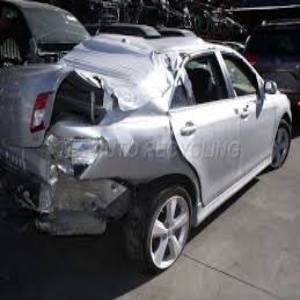bumper: (37, 168, 122, 244)
